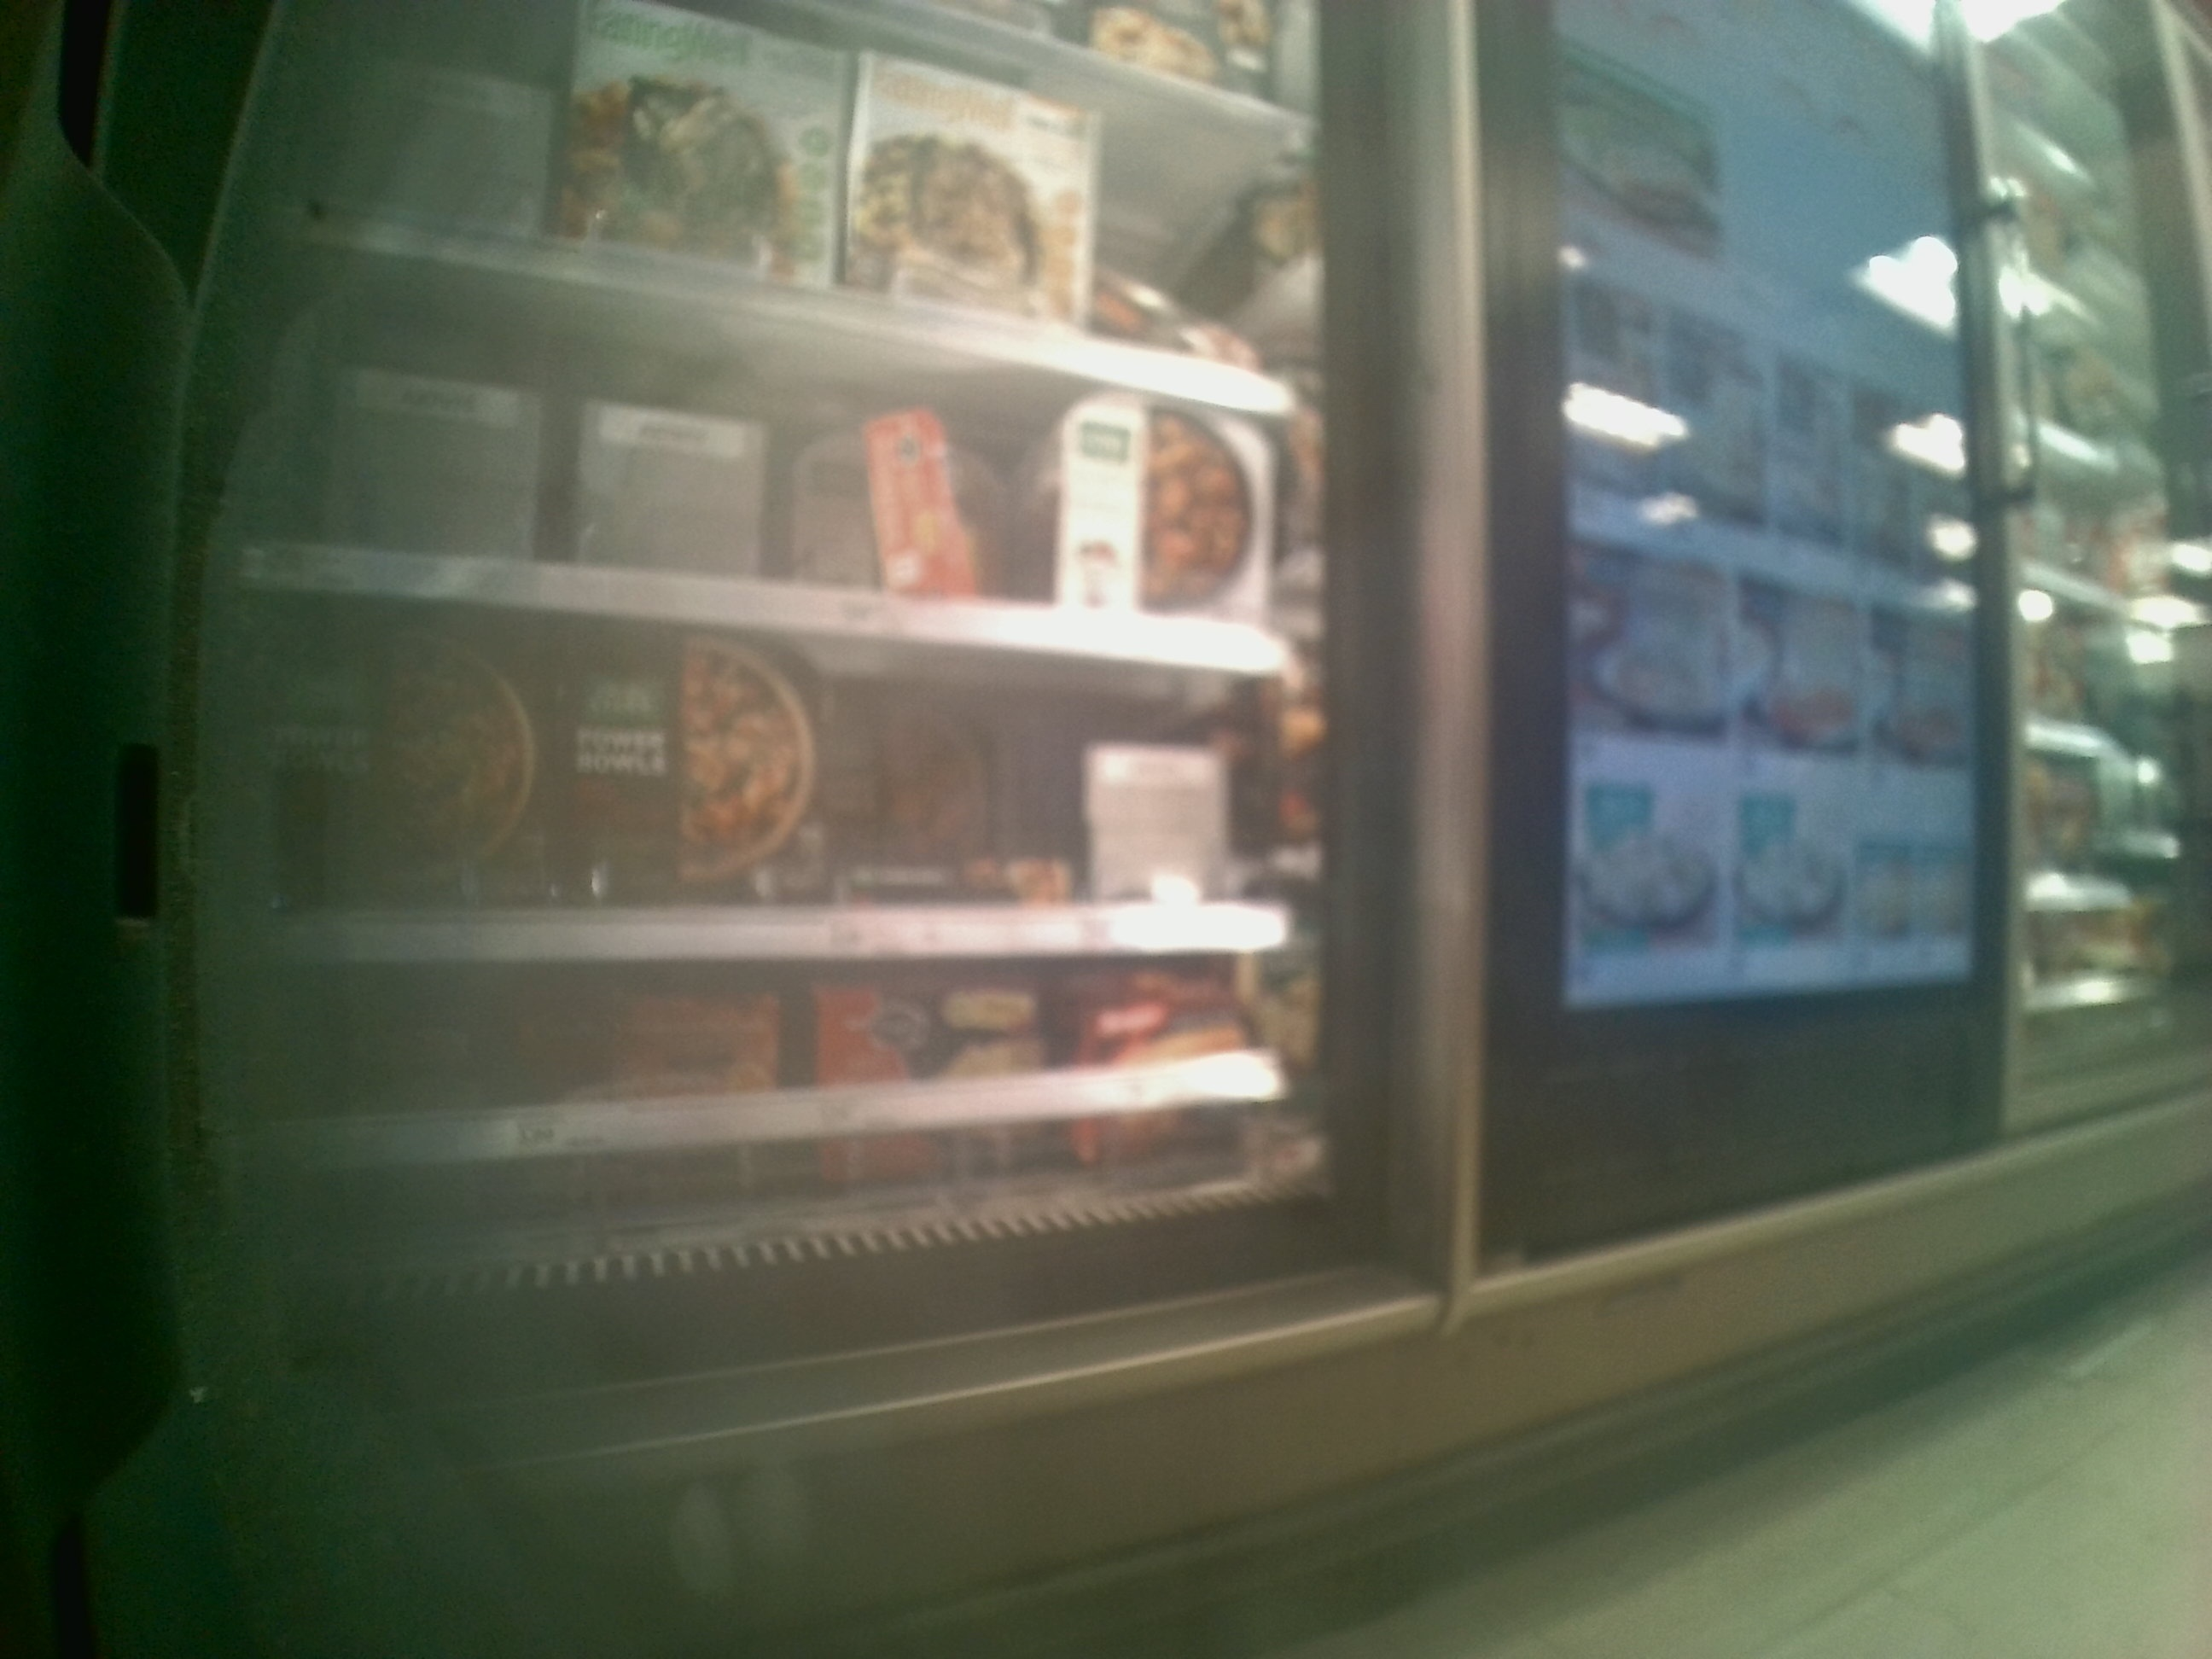shelf: (233, 950, 1350, 1328), (230, 592, 1305, 950)
